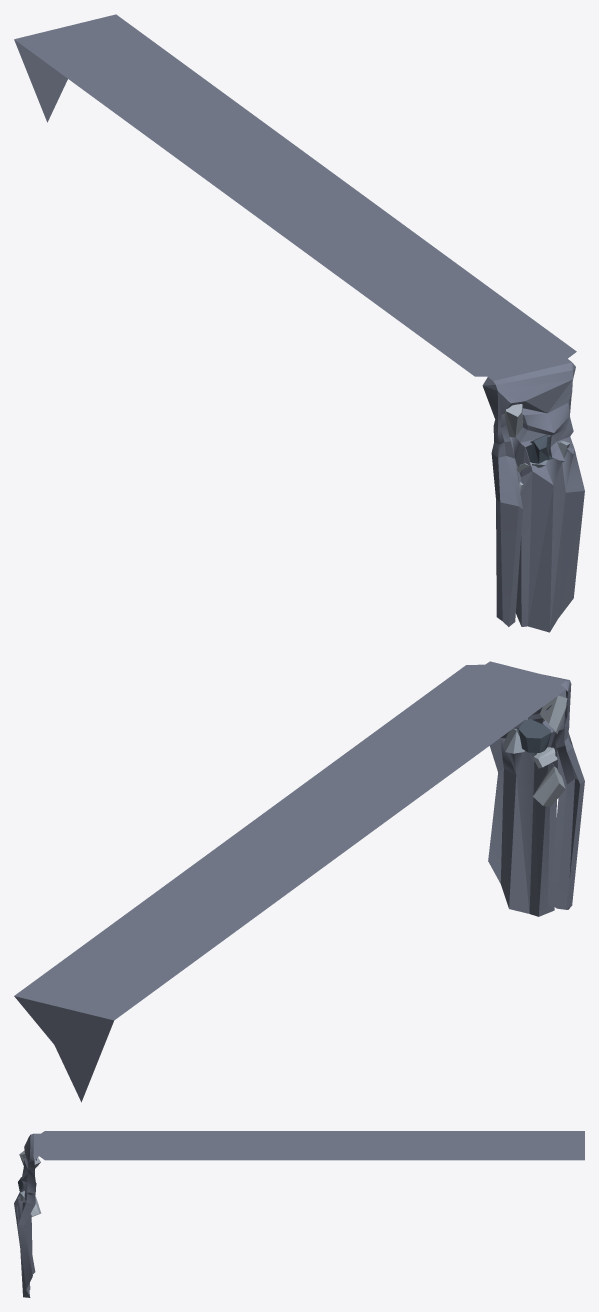
Rendered from waterfall.fbx.
The picture shows the model from 3 angles, top to bottom: view 1: azimuth 30°, elevation 25°; view 2: azimuth 150°, elevation 25°; view 3: azimuth 270°, elevation 25°; orthographic projection. The views are drawn at different scales.
Parts seen in each view (by area): view 1: Scene; view 2: Scene; view 3: Scene.
Boxes of the visible parts, left/top/right/bottom form: Scene: left=14, top=14, right=584, bottom=632; Scene: left=14, top=661, right=584, bottom=1102; Scene: left=14, top=1131, right=584, bottom=1297.
Size of the model in its own units: 857 by 2054 by 7080.
